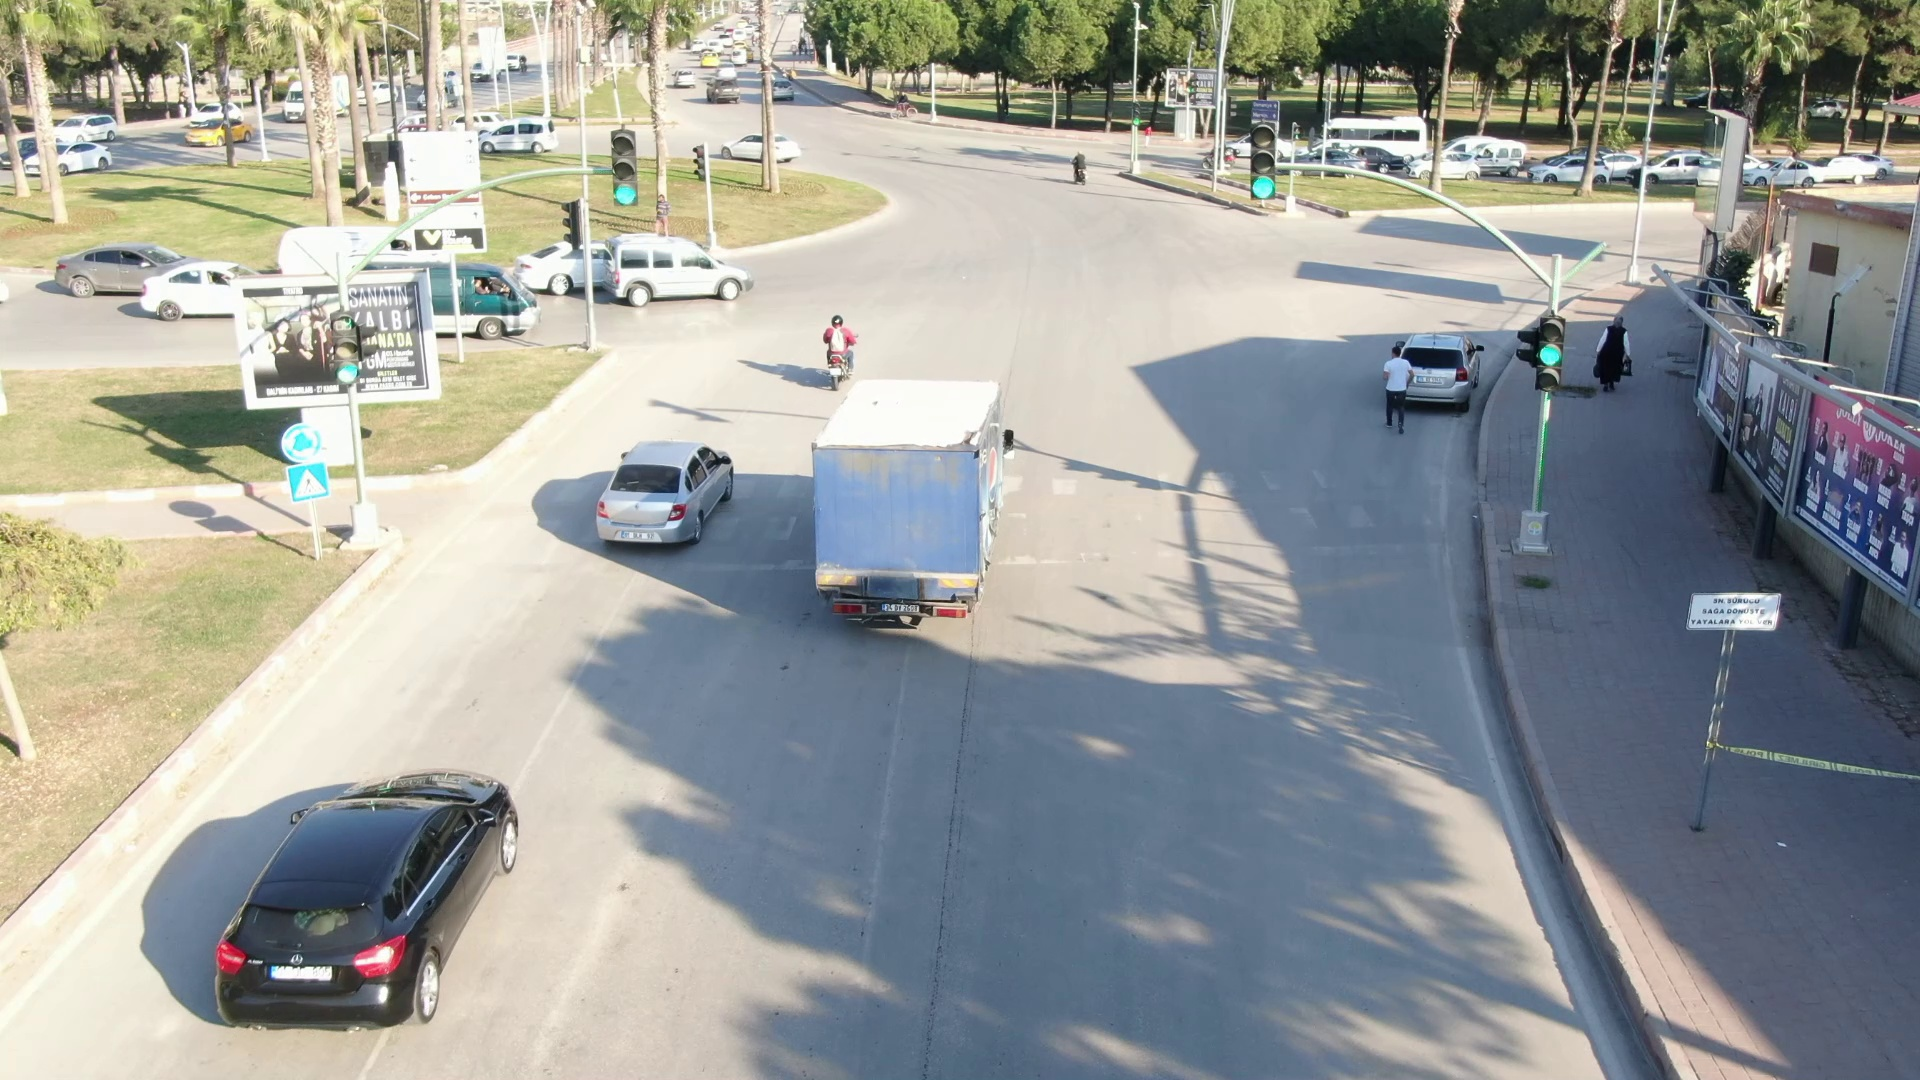car: (171, 721, 549, 1032), (591, 422, 741, 566), (598, 228, 762, 312), (429, 257, 542, 342), (49, 241, 188, 306), (715, 127, 810, 167), (478, 118, 564, 158), (1522, 153, 1612, 186)
person: (1583, 313, 1637, 398), (1374, 341, 1418, 437)
